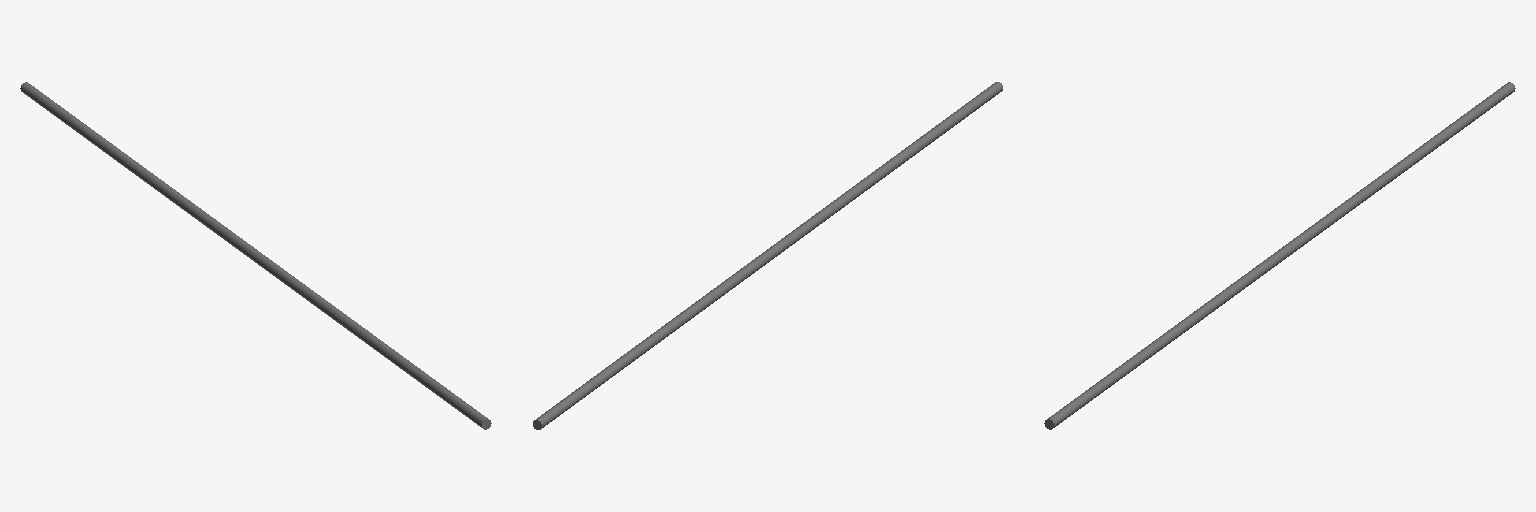
robot.urdf — object:
<?xml version="1.0"?>
<robot name="object">
  <link name="object1">
    <visual>
      <origin xyz="0 0 0" rpy="1.57 0 0"/>
      <geometry>
       <cylinder radius="0.025" length="4.1"/>

      </geometry>
      <material name="mat">
        <color rgba="0.5 0.5 0.5 1"/>
      </material>
    </visual>
    <collision>
      <origin xyz="0 0 0" rpy="1.57 0 0"/>
      <geometry>
         <cylinder radius="0.025" length="4.1"/>
      </geometry>
    </collision>
  </link>
</robot>

--- What the picture shows (computed from the rendered views, not written in the file) ---
3 views of the same robot in one strip: view 1: azimuth 30°, elevation 25°; view 2: azimuth 150°, elevation 25°; view 3: azimuth 330°, elevation 25° (orthographic).
Robot: object — 1 links, 0 joints (none); root link object1; default pose: all joints at 0.
Links seen in each view (by area): view 1: object1; view 2: object1; view 3: object1.
Boxes of the visible links, x1,y1,x2,y2 form: object1: [20, 82, 491, 429]; object1: [533, 82, 1002, 429]; object1: [1044, 82, 1515, 429].
Size in the robot's own frame: 0.05 by 4.1 by 0.0533 metres.
Geometry: primitives only (box / cylinder / sphere), no mesh files.
